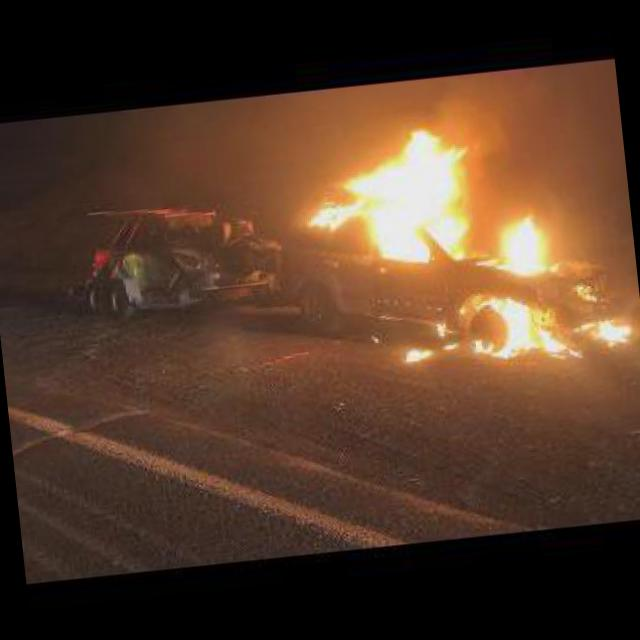fire: (282, 122, 466, 276), (461, 291, 582, 369), (475, 216, 559, 278), (594, 312, 631, 348), (403, 345, 434, 362), (430, 314, 448, 336)
